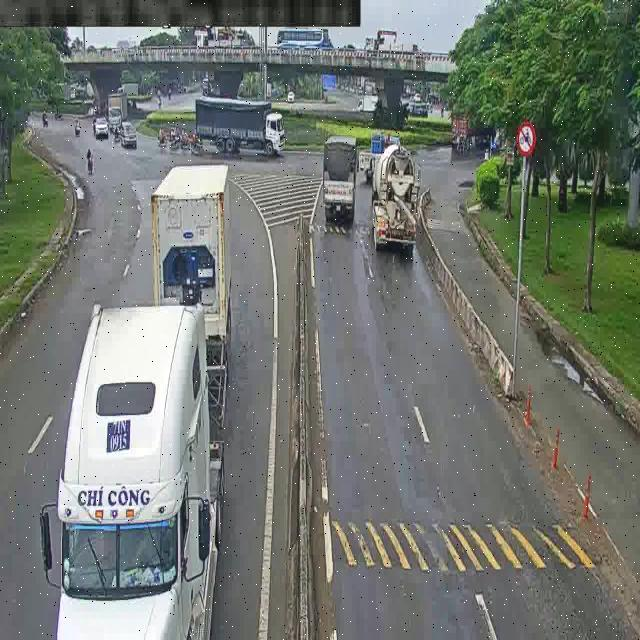car: (115, 121, 148, 161)
motorbike: (155, 123, 172, 161), (83, 145, 102, 179), (36, 106, 56, 133), (65, 118, 82, 141), (173, 127, 182, 148)
truck: (75, 141, 285, 640), (191, 95, 294, 161), (375, 140, 426, 265), (318, 126, 363, 245), (445, 99, 500, 149), (100, 94, 129, 127), (90, 114, 113, 144), (355, 91, 378, 111)
